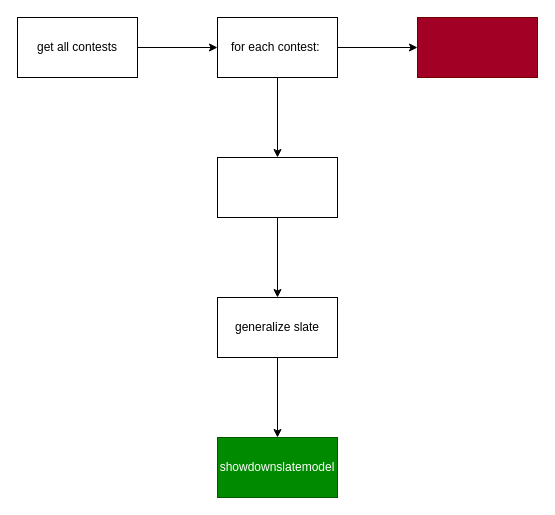
Image size: 555x515. Some labels were removed from this diagram. The centre of each missing label's shape, as x and y in pixels:
"END" belongs at point (477, 47).
"get_contest_data" belongs at point (277, 187).
